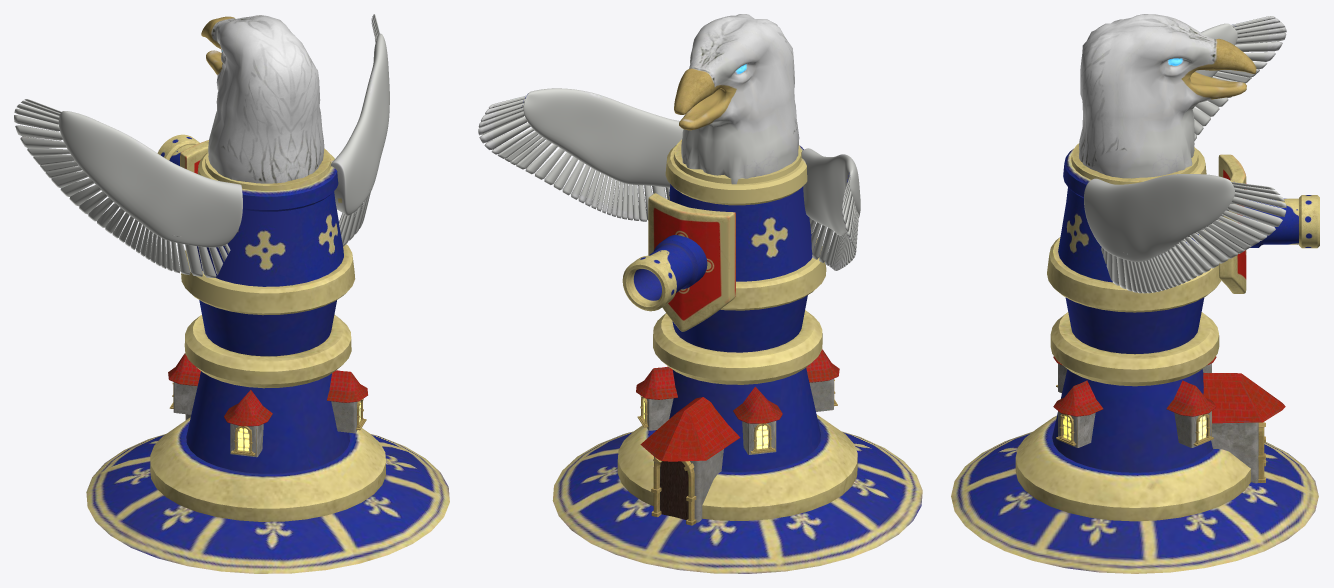
The model's file is eagle_tower_boss1.glb.
The picture shows the model from 3 angles, left to right: view 1: azimuth 30°, elevation 25°; view 2: azimuth 150°, elevation 25°; view 3: azimuth 270°, elevation 25°; orthographic projection.
Visible parts, largest first — view 1: Tower_5, Upper Wings_8, Head_3, Wings_9, Canon_Mount_6, Window_13, Window_15, Window_11, Canon_7, Shield_2; view 2: Tower_5, Head_3, Upper Wings_8, Wings_9, Doorway_4, Shield_2, Canon_Mount_6, Canon_7, Window_11, Window_17, Window_13; view 3: Tower_5, Head_3, Wings_9, Upper Wings_8, Doorway_4, Canon_Mount_6, Canon_7, Window_15, Window_17, Shield_2.
Boxes of the visible parts, <box> form: Tower_5: <box>86,148,449,573</box>; Upper Wings_8: <box>58,33,389,247</box>; Head_3: <box>201,15,324,183</box>; Wings_9: <box>14,14,379,277</box>; Canon_Mount_6: <box>197,191,343,286</box>; Window_13: <box>224,390,272,457</box>; Window_15: <box>327,370,367,433</box>; Window_11: <box>168,353,200,414</box>; Canon_7: <box>157,134,199,165</box>; Shield_2: <box>180,140,208,173</box>; Tower_5: <box>552,139,922,573</box>; Head_3: <box>674,14,799,184</box>; Upper Wings_8: <box>521,88,860,235</box>; Wings_9: <box>478,95,858,270</box>; Doorway_4: <box>640,397,740,525</box>; Shield_2: <box>648,193,735,331</box>; Canon_Mount_6: <box>668,184,812,281</box>; Canon_7: <box>622,235,707,311</box>; Window_11: <box>733,386,782,454</box>; Window_17: <box>636,366,677,430</box>; Window_13: <box>806,349,839,411</box>; Tower_5: <box>951,143,1318,573</box>; Head_3: <box>1079,14,1256,178</box>; Wings_9: <box>1101,16,1286,293</box>; Upper Wings_8: <box>1084,23,1237,262</box>; Doorway_4: <box>1203,373,1285,483</box>; Canon_Mount_6: <box>1058,187,1201,282</box>; Canon_7: <box>1243,195,1319,248</box>; Window_15: <box>1053,380,1103,447</box>; Window_17: <box>1166,380,1216,447</box>; Shield_2: <box>1218,154,1246,293</box>.
Size of the model in its own units: 504 by 627 by 442.
Materials: 1 (1 with a texture image).
